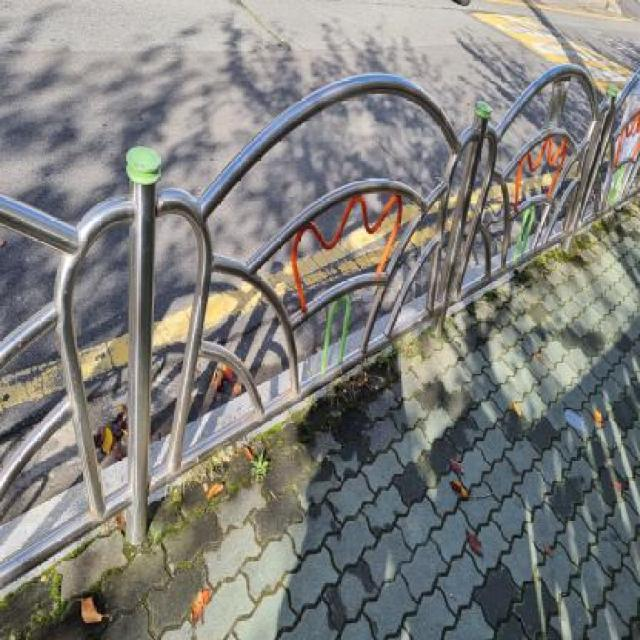fence: (9, 69, 550, 470)
